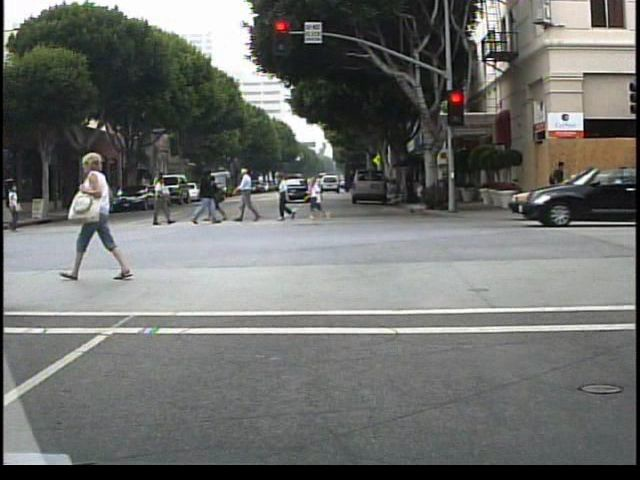person: (72, 150, 129, 284), (191, 165, 223, 229), (235, 166, 265, 226), (149, 171, 172, 228), (276, 172, 300, 226), (548, 155, 570, 213), (4, 181, 25, 236), (18, 194, 41, 239), (212, 171, 227, 225)
